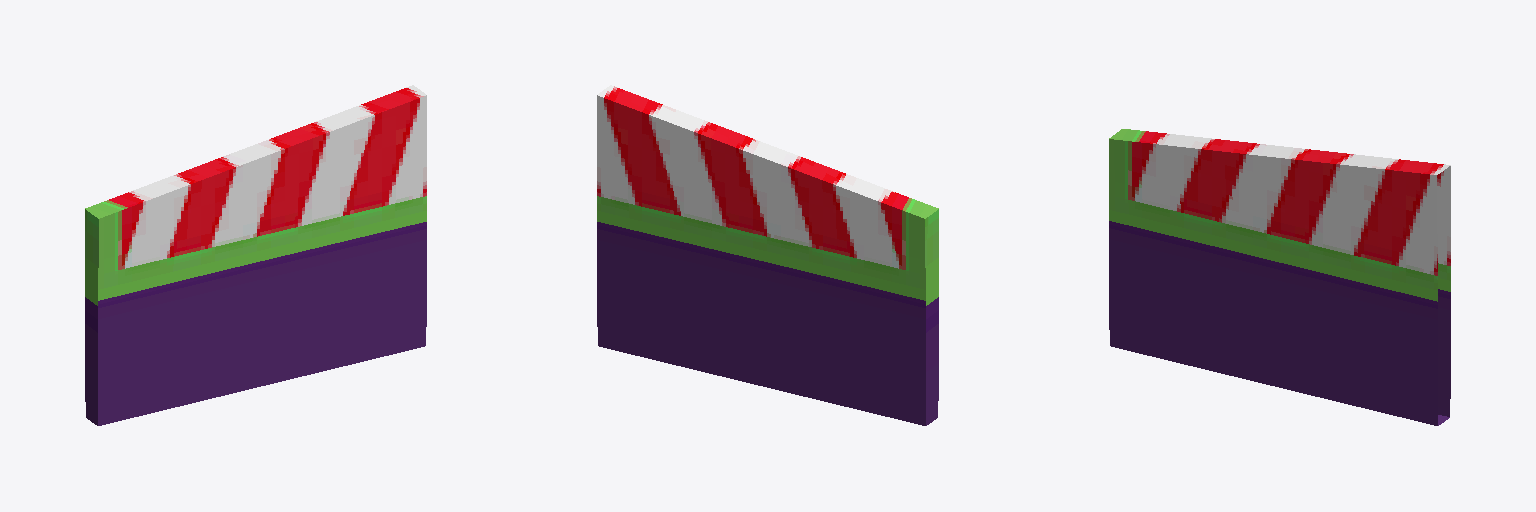
3 views of the same model, side by side, from view 1: azimuth 30°, elevation 25°; view 2: azimuth 150°, elevation 25°; view 3: azimuth 330°, elevation 25° (orthographic).
Visible parts, largest first — view 1: buzzlightyRightWing1_buzzlighty.008; view 2: buzzlightyRightWing1_buzzlighty.008; view 3: buzzlightyRightWing1_buzzlighty.008.
Boxes of the visible parts, box(x1,y1,x2,y2) form: buzzlightyRightWing1_buzzlighty.008: box(85, 85, 426, 425); buzzlightyRightWing1_buzzlighty.008: box(597, 85, 938, 425); buzzlightyRightWing1_buzzlighty.008: box(1109, 129, 1450, 425).
Size of the model in its own units: 0.2634 by 0.1928 by 0.0194.
Materials: 1 (1 with a texture image).